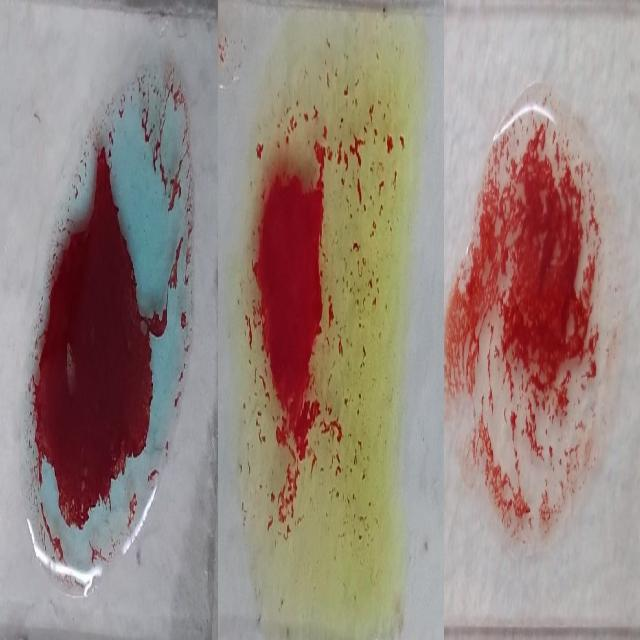A: (18, 48, 195, 603), (453, 101, 607, 565)
B: (238, 22, 408, 587)
